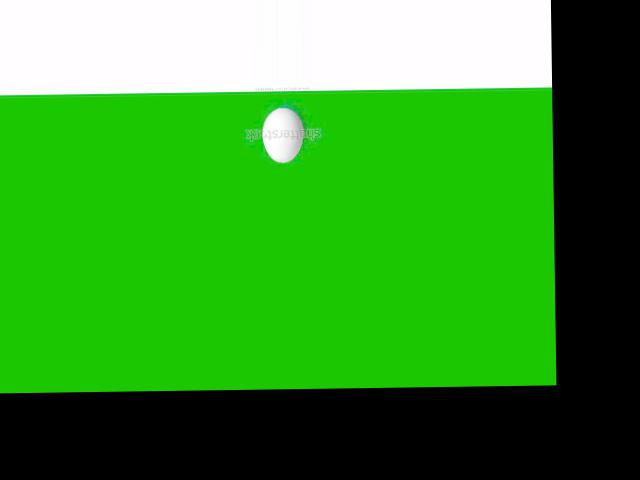egg: (262, 107, 303, 162)
